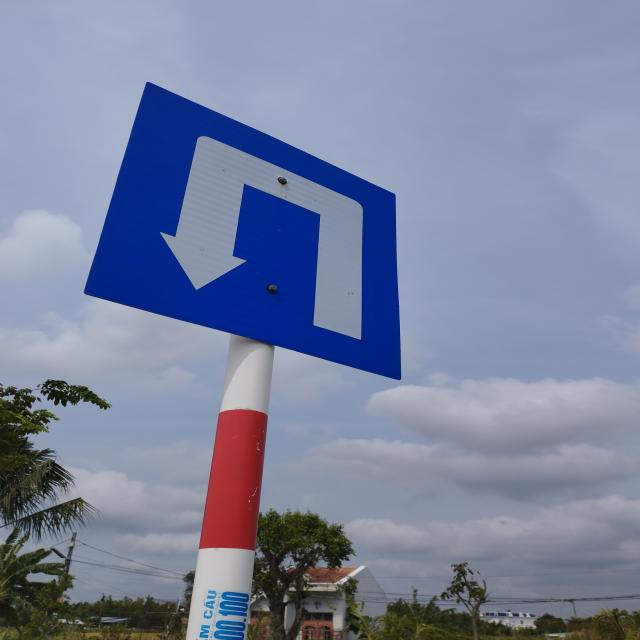Den_Giao_Thong: (84, 80, 402, 378)
